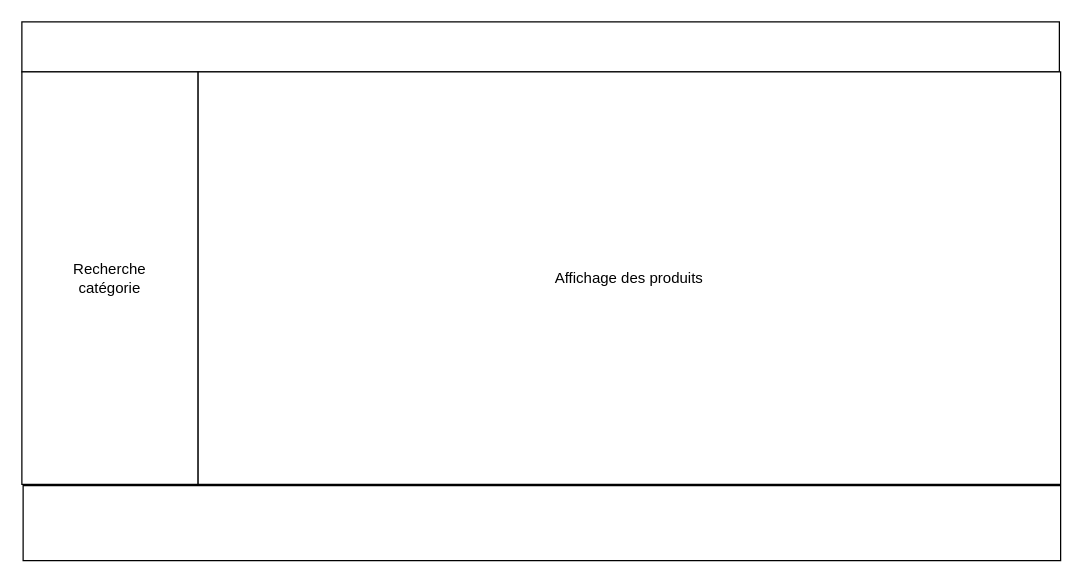
Some shapes in this 1083 by 583 pixel diagram are drawn without their labels. The box of each missing label's shape, as (x1, y1, x2, y2) in pixels:
Bas de page: (22, 484, 1061, 561)
Menu: (21, 21, 1059, 72)
